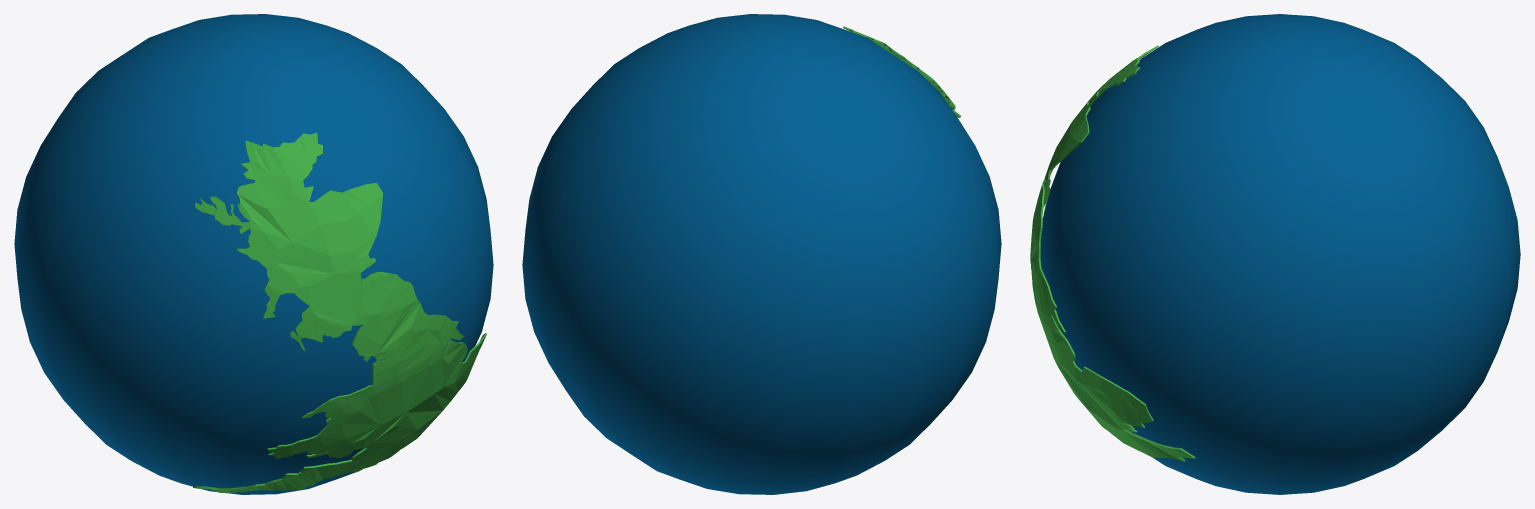
Rendered from Earth 5-20.fbx.
3 renders of one model, left to right at view 1: azimuth 30°, elevation 25°; view 2: azimuth 150°, elevation 25°; view 3: azimuth 270°, elevation 25°, orthographic.
Visible parts, largest first — view 1: Ocean, World; view 2: Ocean, World; view 3: Ocean, World.
Part boxes in pixels (x1,y1,x2,y2): Ocean: (14,14,493,494); World: (193,132,486,493); Ocean: (522,14,1001,494); World: (843,26,960,117); Ocean: (1040,14,1520,494); World: (1030,45,1195,461).
Bounding box in the file's own units: 18.62 × 18.62 × 18.97.
